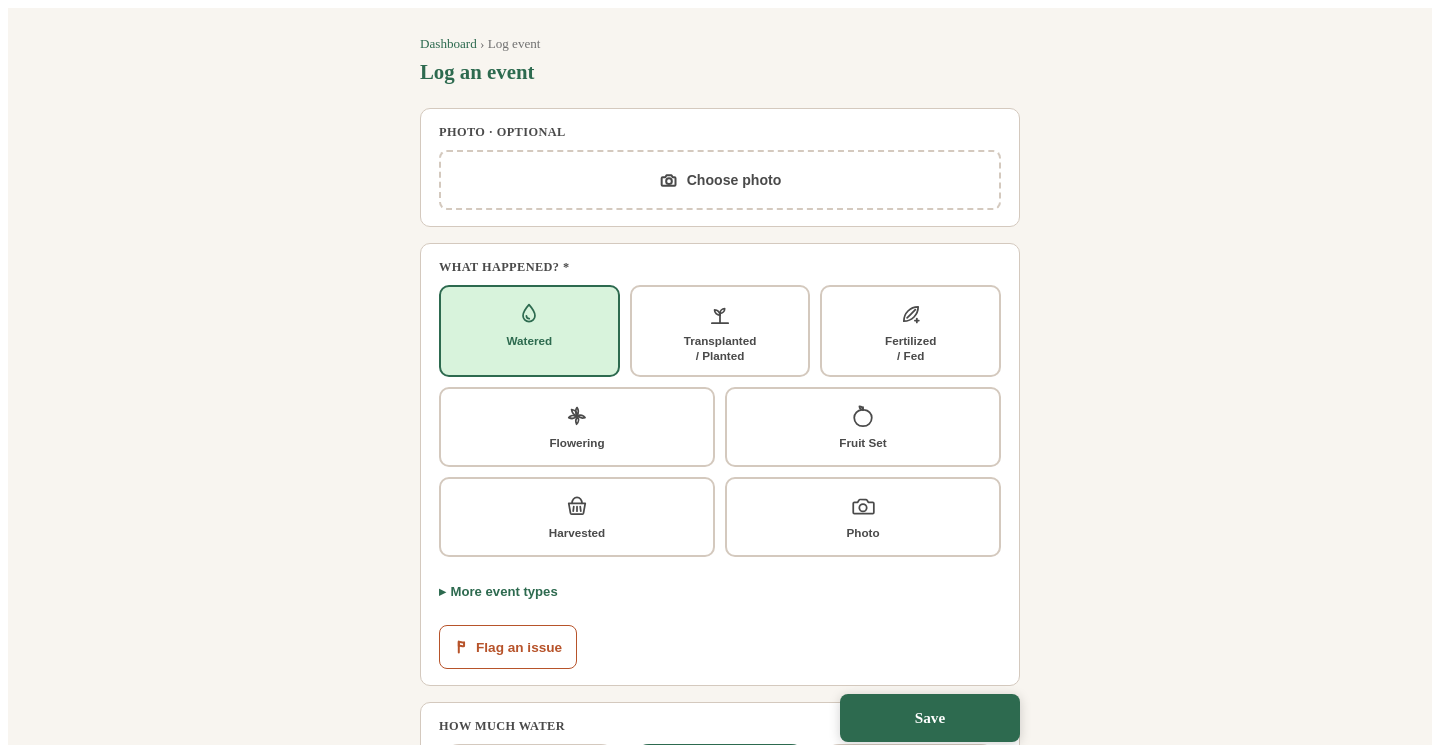
it: EventNew — V4-PROJHIDE-001 (flag ON) › requires a planting for a plant-predicated type (watering) — implied by the flag
The image size is (1440, 745).
What coordinates should you click on to do the following:
click the button "Save"
I would click on:
 (930, 718)
Its box is [840,694,1020,742].
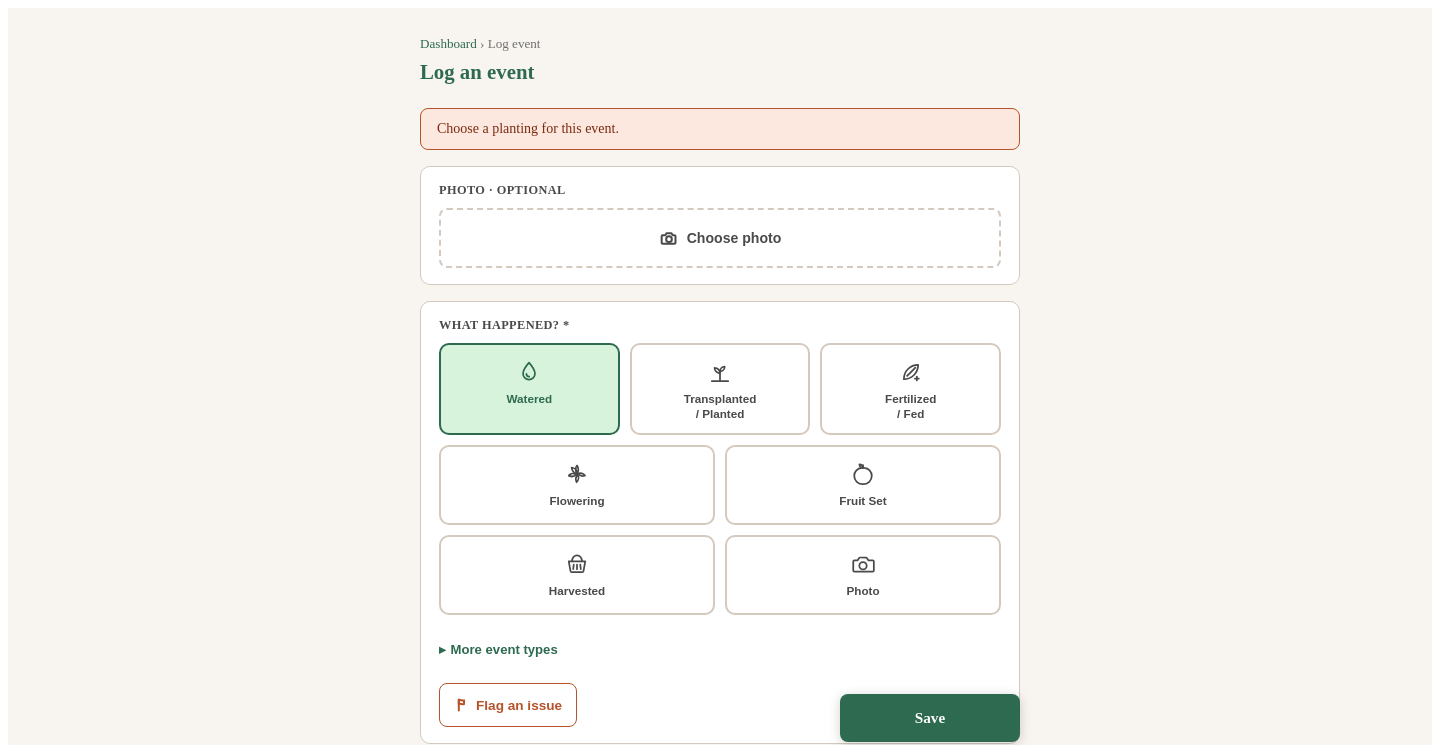
Expected: the text "Choose a planting for this event." is shown, [420,108,1020,150]
